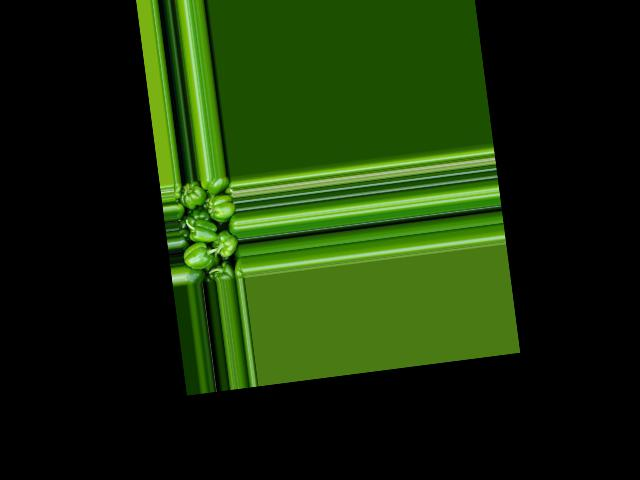bell_pepper: (183, 260, 205, 286)
